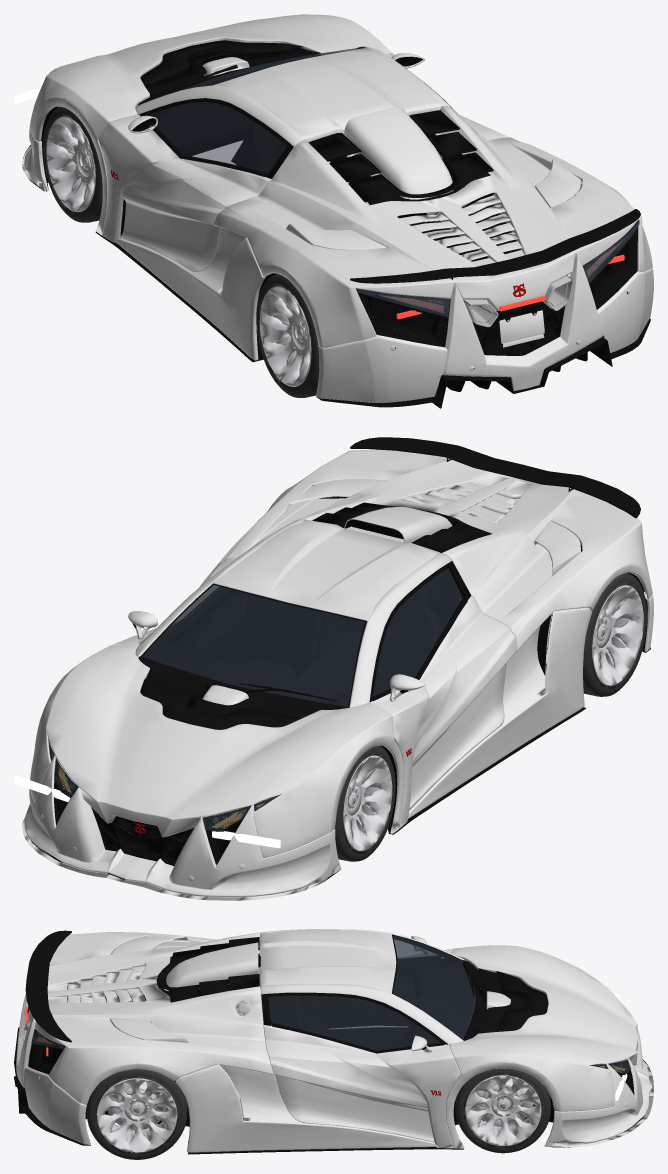
The model's file is auto_goblin_lod1.glb.
3 renders of one model, top to bottom at view 1: azimuth 30°, elevation 25°; view 2: azimuth 150°, elevation 25°; view 3: azimuth 270°, elevation 25°, orthographic. The views are drawn at different scales.
Visible parts, largest first — view 1: Karosserie, Rad_HL, Rad_VL; view 2: Karosserie, Rad_HL, Rad_VL; view 3: Karosserie, Rad_HR, Rad_VR.
Part boxes in pixels (x1=…): Karosserie: x1=22, y1=14, x2=653, y2=408; Rad_HL: x1=256, y1=273, x2=319, y2=397; Rad_VL: x1=43, y1=106, x2=102, y2=222; Karosserie: x1=22, y1=437, x2=653, y2=900; Rad_HL: x1=583, y1=573, x2=647, y2=696; Rad_VL: x1=335, y1=746, x2=395, y2=861; Karosserie: x1=14, y1=929, x2=653, y2=1154; Rad_HR: x1=86, y1=1069, x2=187, y2=1159; Rad_VR: x1=455, y1=1068, x2=550, y2=1153.
Bounding box in the file's own units: 2.26 × 1.2 × 4.72.
Materials: 11 (1 with a texture image).
